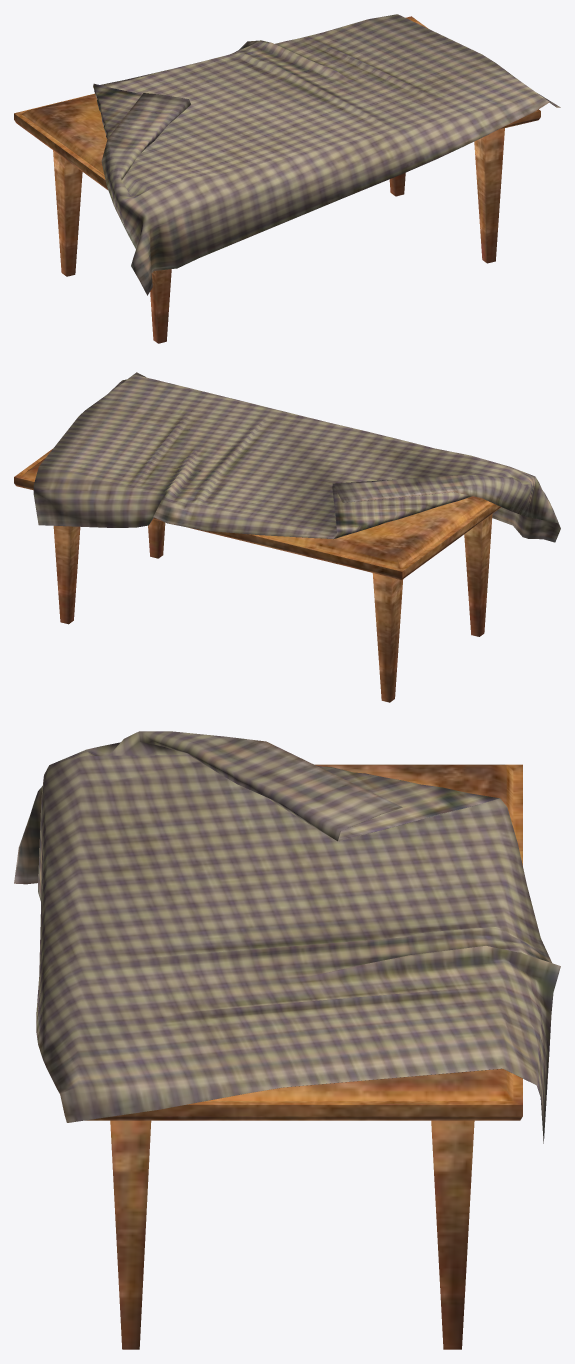
The model's file is dining_table_6.glb.
3 views of the same model, one above another, from view 1: azimuth 30°, elevation 25°; view 2: azimuth 150°, elevation 25°; view 3: azimuth 270°, elevation 25° (orthographic). The views are drawn at different scales.
Parts seen in each view (by area): view 1: dining_table_cloth, dining_table; view 2: dining_table_cloth, dining_table; view 3: dining_table_cloth, dining_table.
Part boxes in pixels (x1=…): dining_table_cloth: x1=93, y1=14, x2=560, y2=295; dining_table: x1=14, y1=16, x2=540, y2=343; dining_table_cloth: x1=33, y1=372, x2=560, y2=542; dining_table: x1=14, y1=449, x2=501, y2=702; dining_table_cloth: x1=14, y1=731, x2=560, y2=1143; dining_table: x1=85, y1=764, x2=522, y2=1349.
Size of the model in its own units: 2.26 by 0.877 by 1.39.
1 material, 1 textured.
